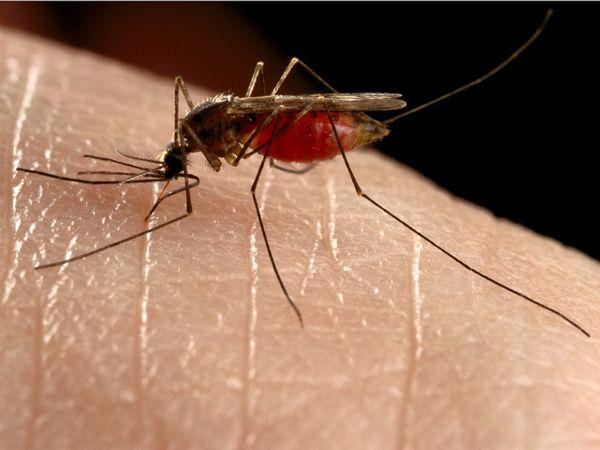dengue_mosquito: (15, 58, 429, 241)
